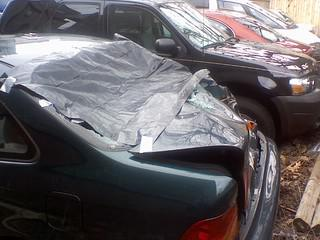Rear-windscreen-Damage: (2, 36, 256, 166)
